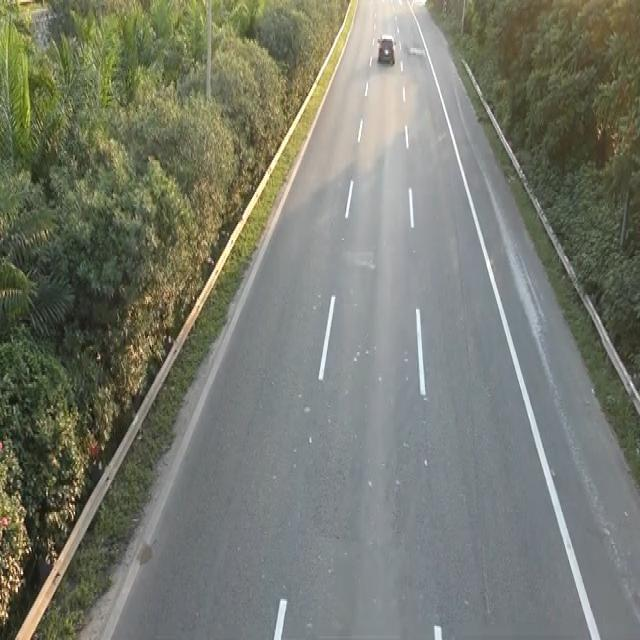bus: (376, 32, 396, 66)
